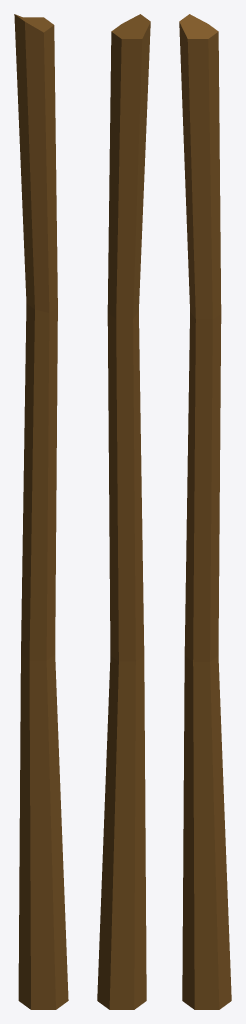
The model's file is wooden_stick.fbx.
3 views of the same model, side by side, from view 1: azimuth 30°, elevation 25°; view 2: azimuth 210°, elevation 25°; view 3: azimuth 330°, elevation 25° (orthographic).
Visible parts, largest first — view 1: Cylinder.004; view 2: Cylinder.004; view 3: Cylinder.004.
Boxes of the visible parts, left/top/right/bottom form: Cylinder.004: left=14, top=14, right=68, bottom=1009; Cylinder.004: left=97, top=14, right=150, bottom=1009; Cylinder.004: left=179, top=14, right=231, bottom=1009.
Size of the model in its own units: 15.72 by 352 by 16.15.
